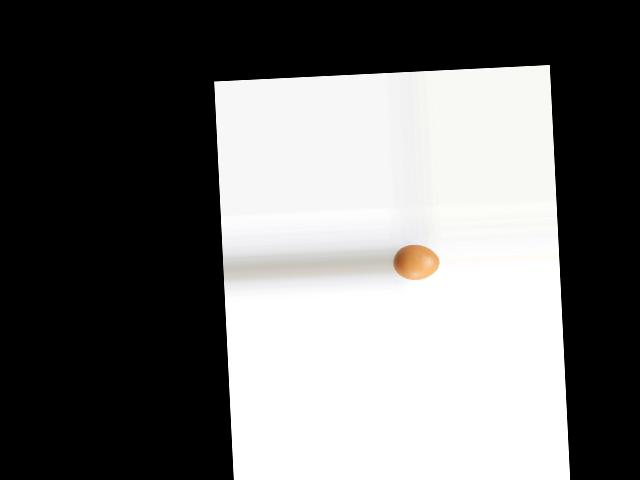egg: (392, 243, 439, 280)
